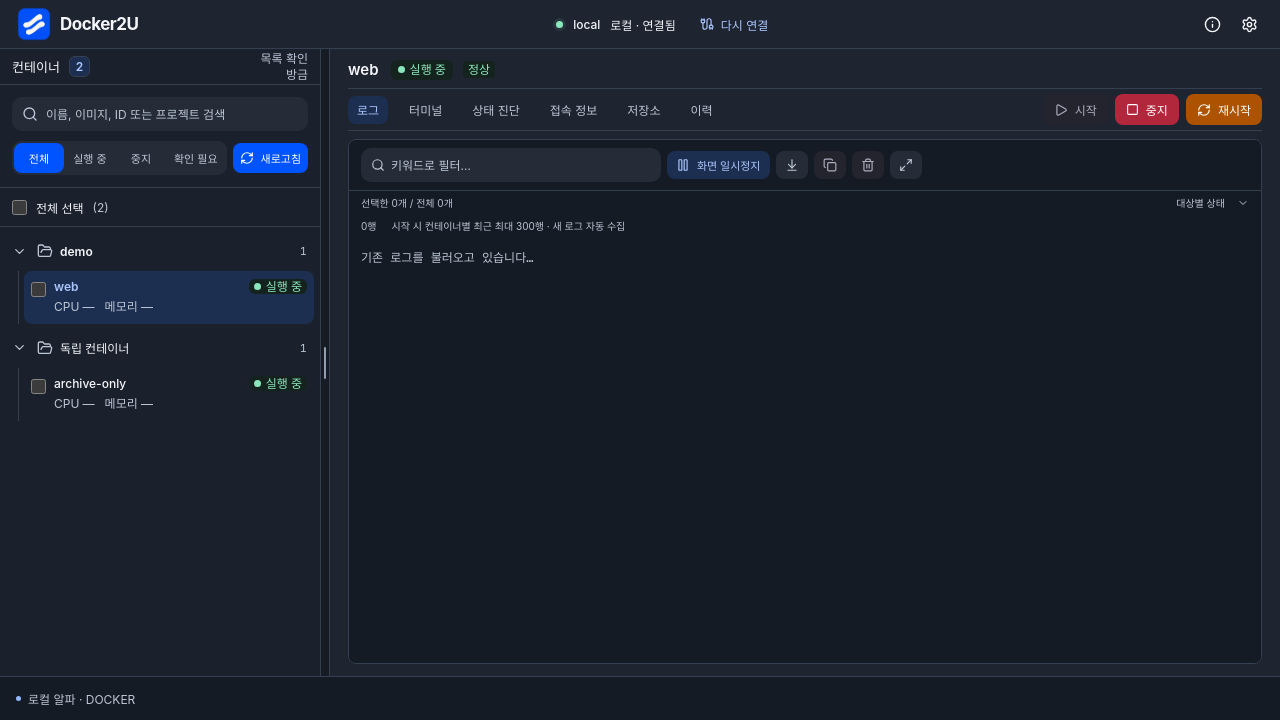
Test case: keeps collected standalone logs reachable without events and resets that scope on reconnect
expect the list item with aria-label "web 상세" is shown: met, box [24,271,314,324]
expect the button "새로고침" is enabled: met, box [232,143,308,173]
Click the list item "독립 컨테이너" at [160, 375], box [6,330,314,421]
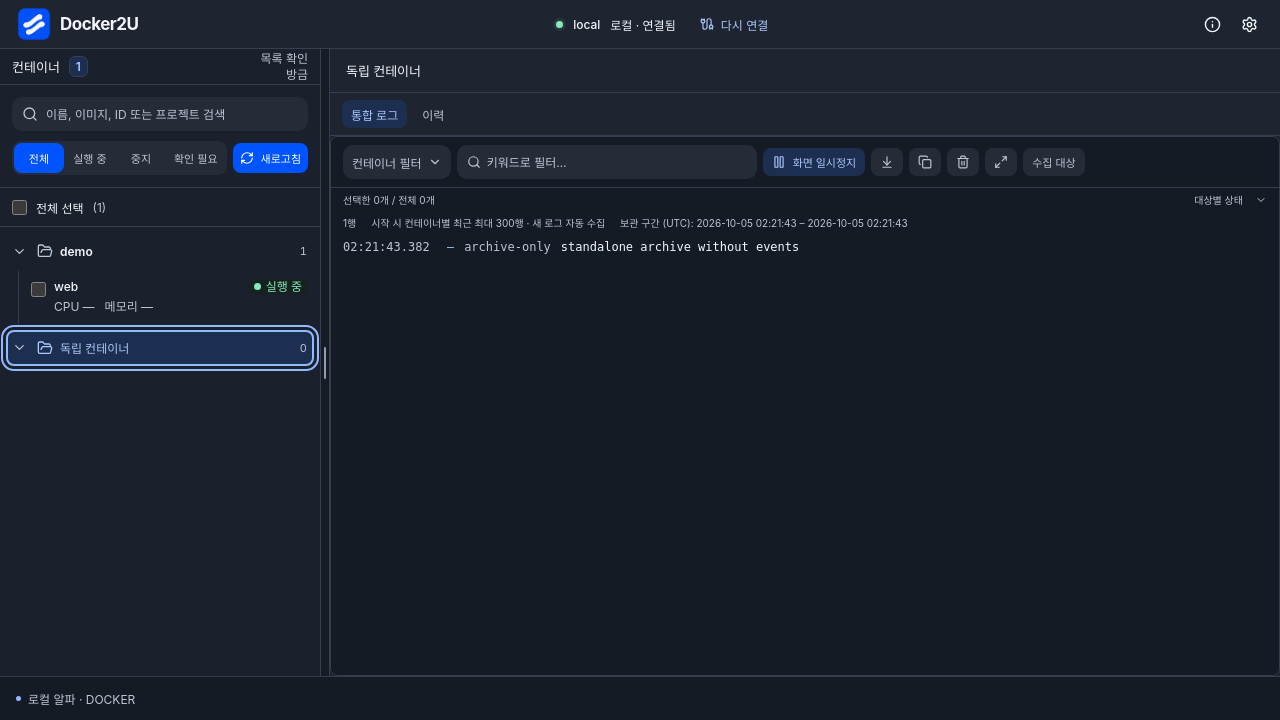
expect the text "standalone archive without events" is shown: met, box [561,240,799,254]
Click the list item with aria-label "demo 프로젝트" at [160, 278], box [6,233,314,324]
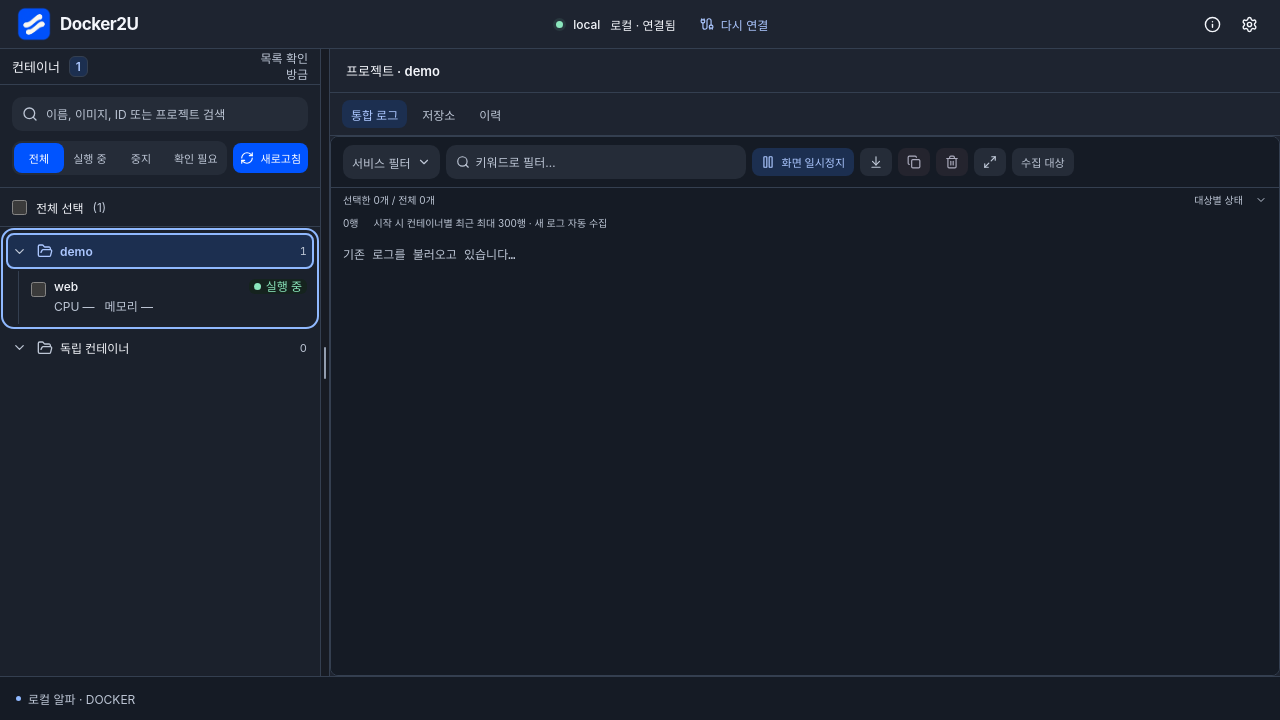
expect the list item with aria-label "demo 프로젝트" is selected: met, box [6,233,314,324]
Click the list item "독립 컨테이너" at [95, 349], box [6,330,314,366]
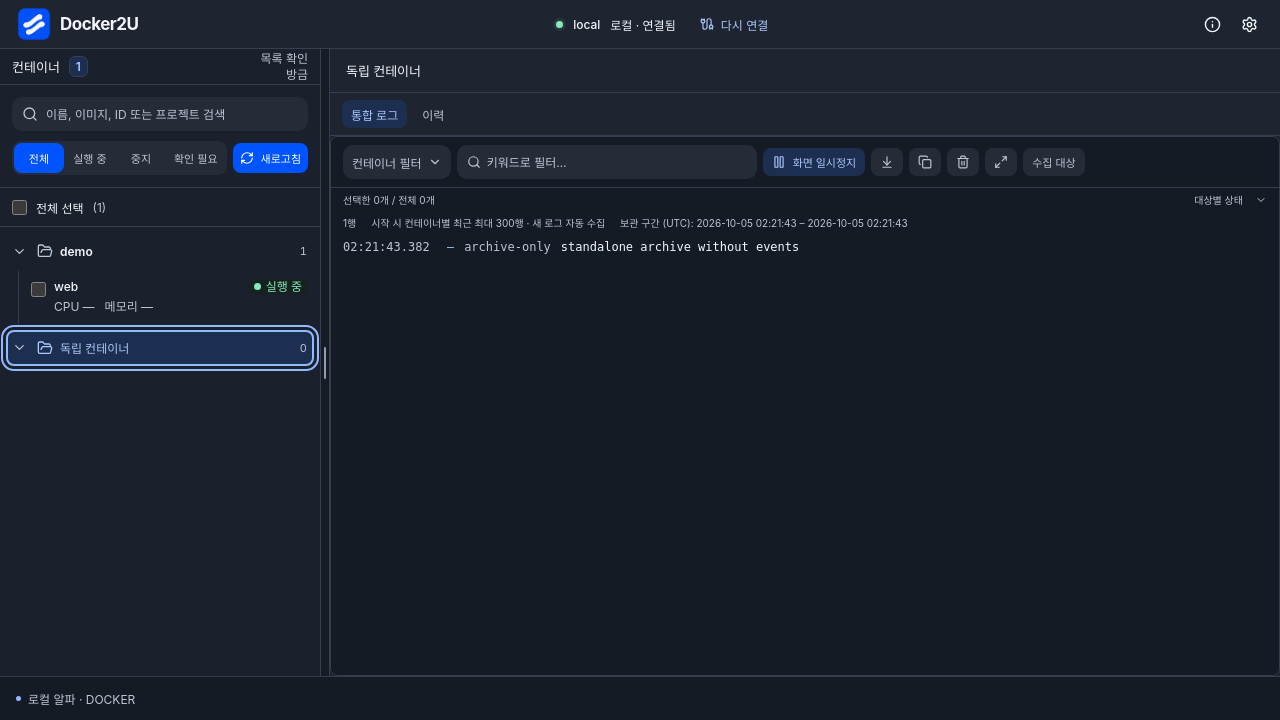
expect the text "standalone archive without events" is shown: met, box [561,240,799,254]
Click the button "다시 연결" at [734, 24], box [688,6,780,42]
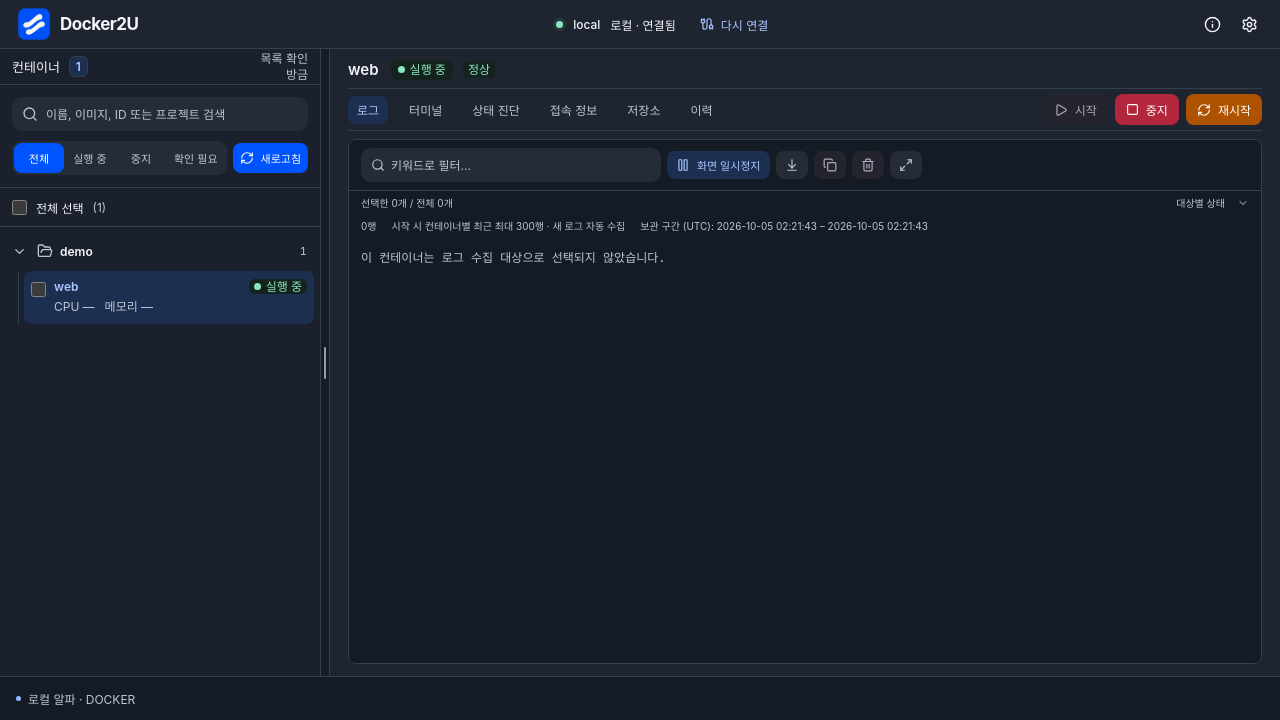
expect the list item with aria-label "web 상세" is shown: met, box [24,271,314,324]
expect the text "독립 컨테이너" is gone: met
